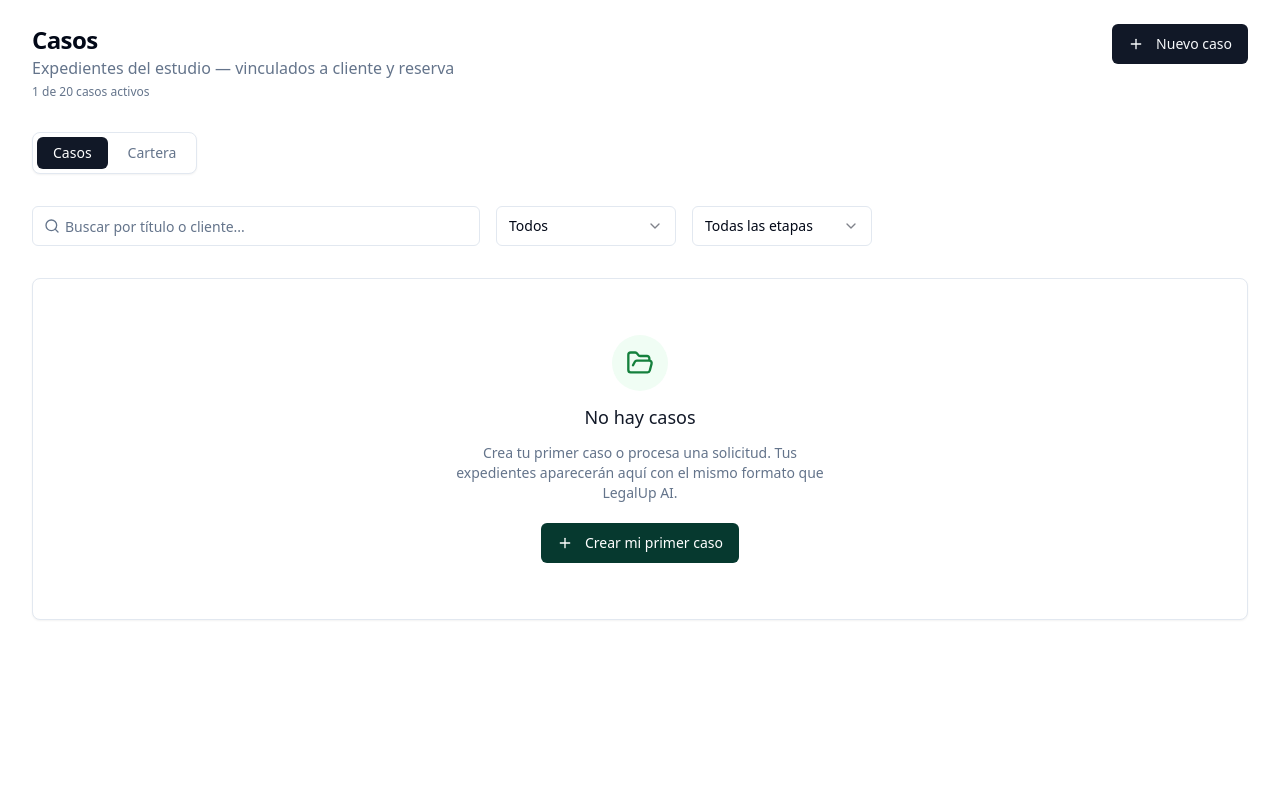
Test: 4.36B — CasesPage lifetime UX gate › active Pro → New Case opens normally
Click the button "Nuevo caso" at (1180, 44), box top-left (1112, 24), bottom-right (1248, 64)
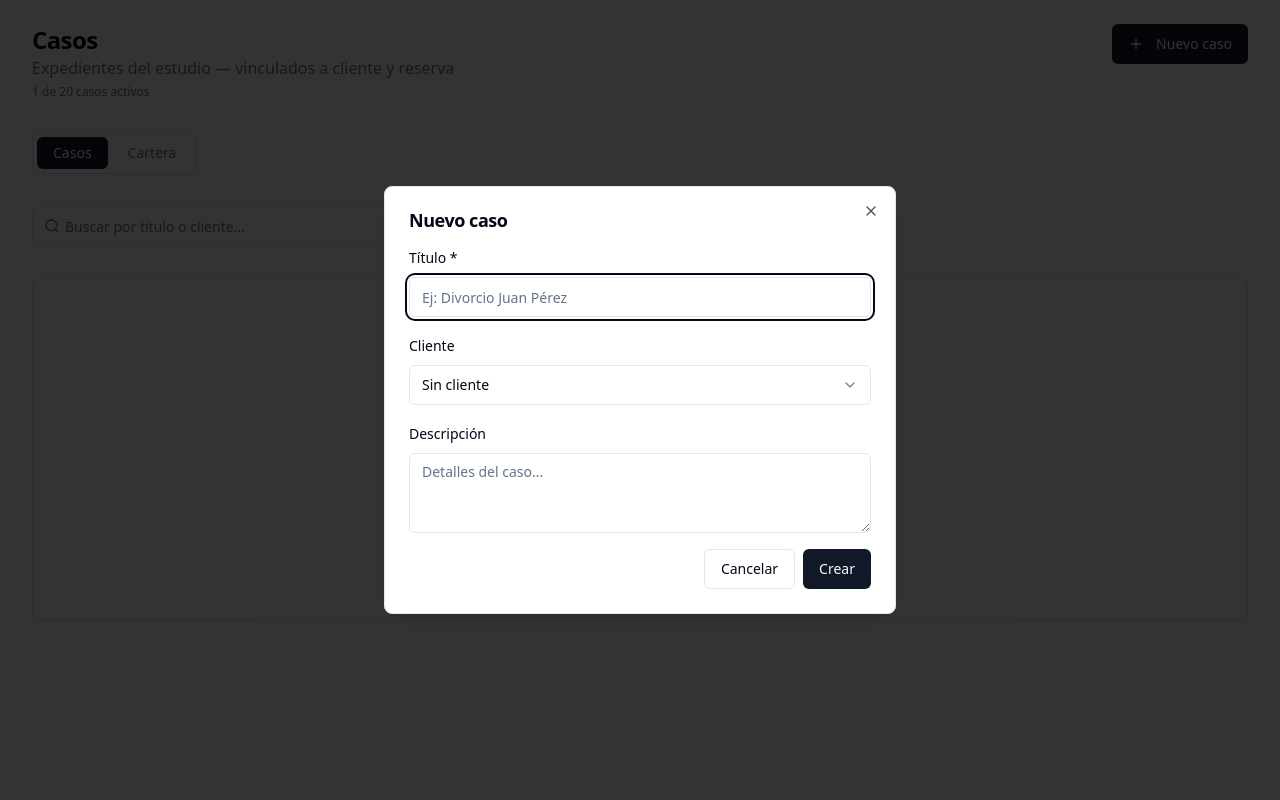
Now the dialog "Nuevo caso" is shown, box top-left (384, 186), bottom-right (896, 614)
